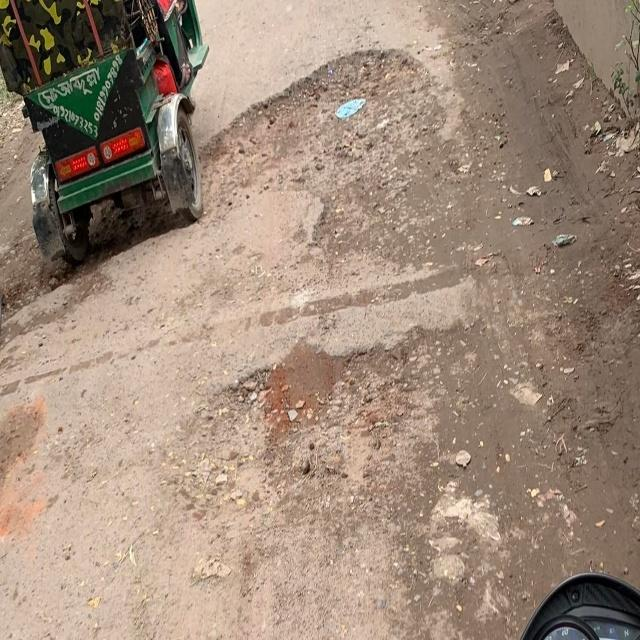Surface Erosion: (144, 18, 640, 640)
